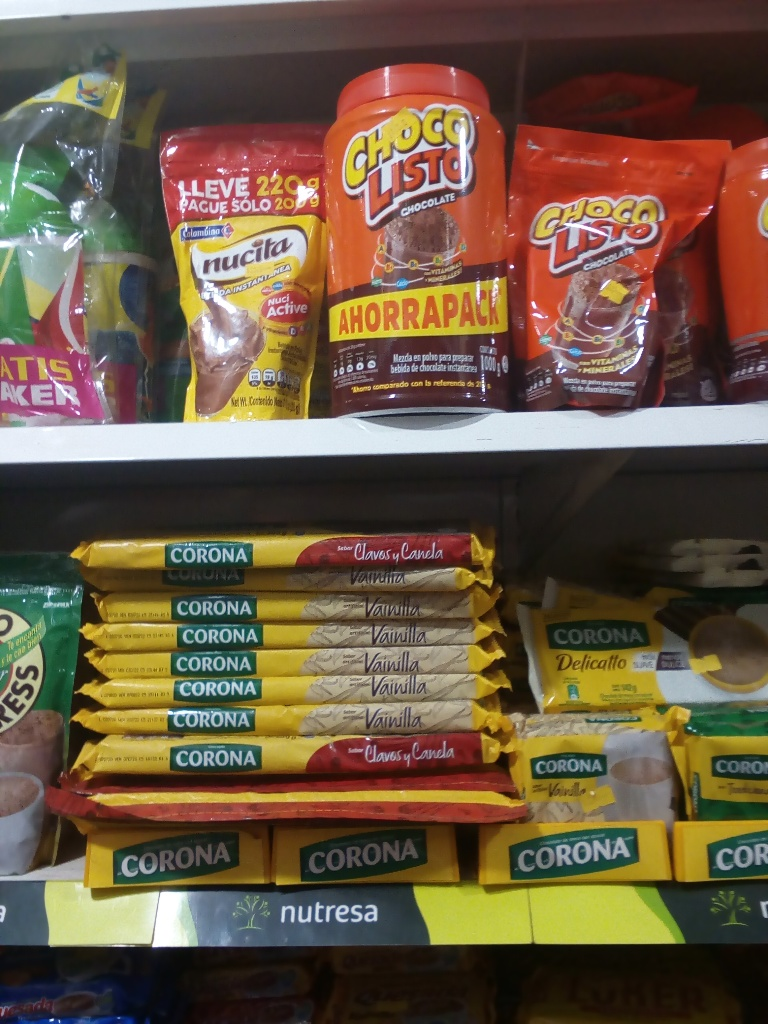COL0170103DYP36000: (499, 117, 727, 402)
COL0170103TRR00100: (328, 56, 510, 407)
COL0170203DYP50000: (3, 115, 59, 424)
